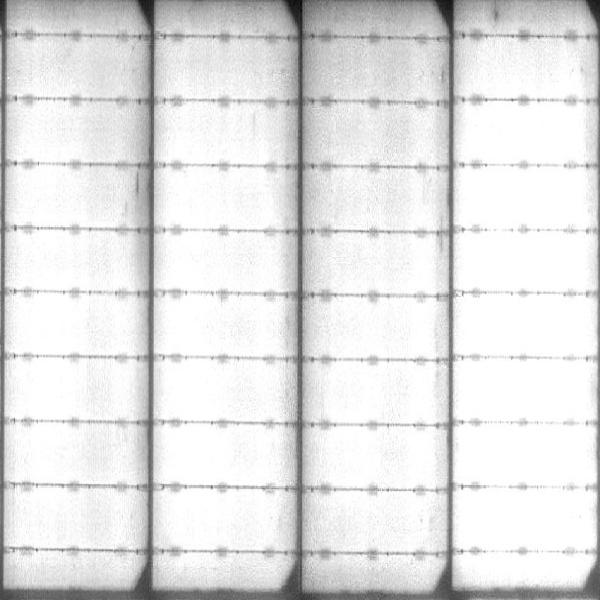hot_spot: (458, 105, 583, 161), (461, 299, 589, 351), (464, 363, 585, 418), (461, 171, 584, 225), (466, 492, 587, 543), (463, 428, 587, 475), (463, 238, 585, 285), (334, 434, 439, 478), (166, 369, 262, 415), (170, 432, 268, 475), (181, 494, 275, 537), (17, 300, 82, 346), (20, 364, 76, 410), (22, 428, 72, 478)
scratch: (133, 168, 142, 206)
